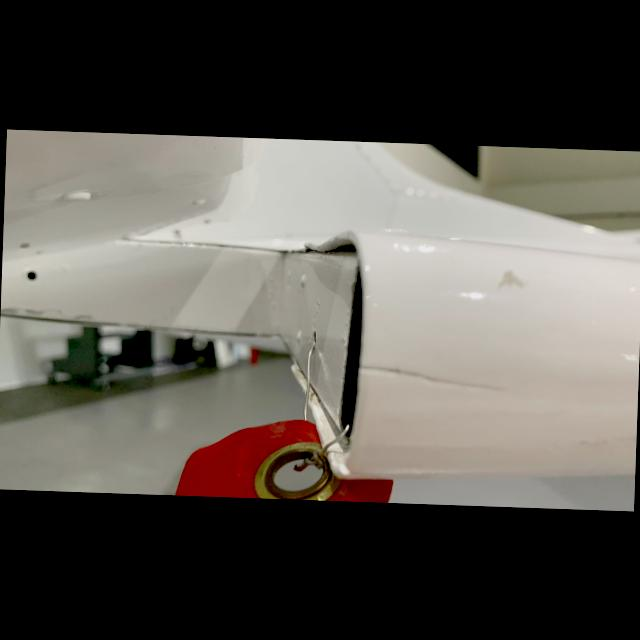Missing Fastener: (22, 269, 44, 287)
dent: (298, 223, 379, 272)
